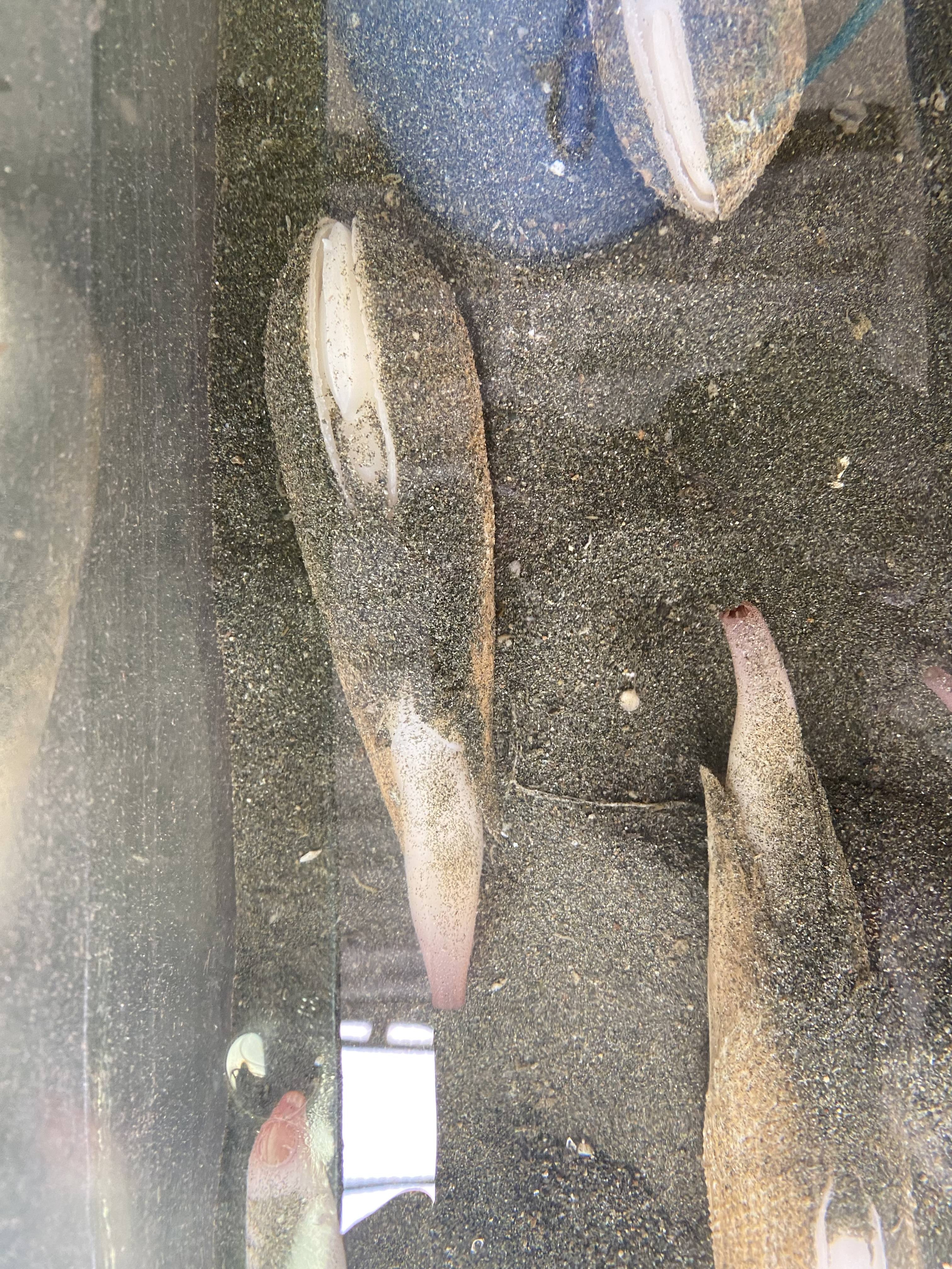Healthy: (268, 218, 494, 1008), (702, 604, 922, 1269), (245, 1091, 346, 1269)
